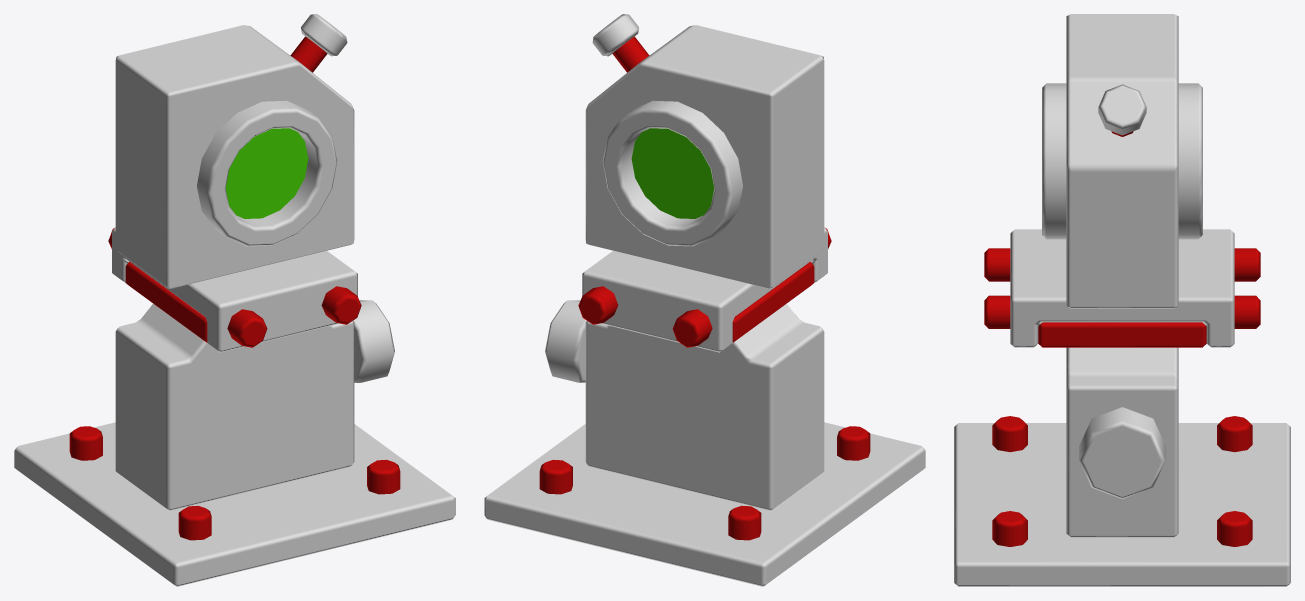
File: Optic02.fbx
3 views of the same model, side by side, from view 1: azimuth 30°, elevation 25°; view 2: azimuth 150°, elevation 25°; view 3: azimuth 270°, elevation 25° (orthographic). The views are drawn at different scales.
Parts seen in each view (by area): view 1: Optic02; view 2: Optic02; view 3: Optic02.
Part boxes in pixels (left/top/right/bottom): Optic02: left=14, top=14, right=455, bottom=586; Optic02: left=484, top=14, right=925, bottom=586; Optic02: left=954, top=14, right=1290, bottom=586.
Size of the model in its own units: 7.5 by 11.63 by 7.5.
